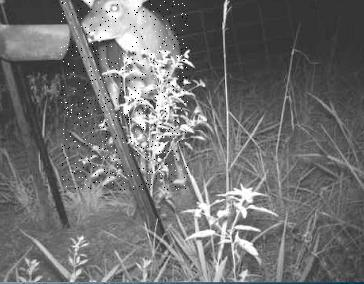Deer: (61, 0, 188, 190)
